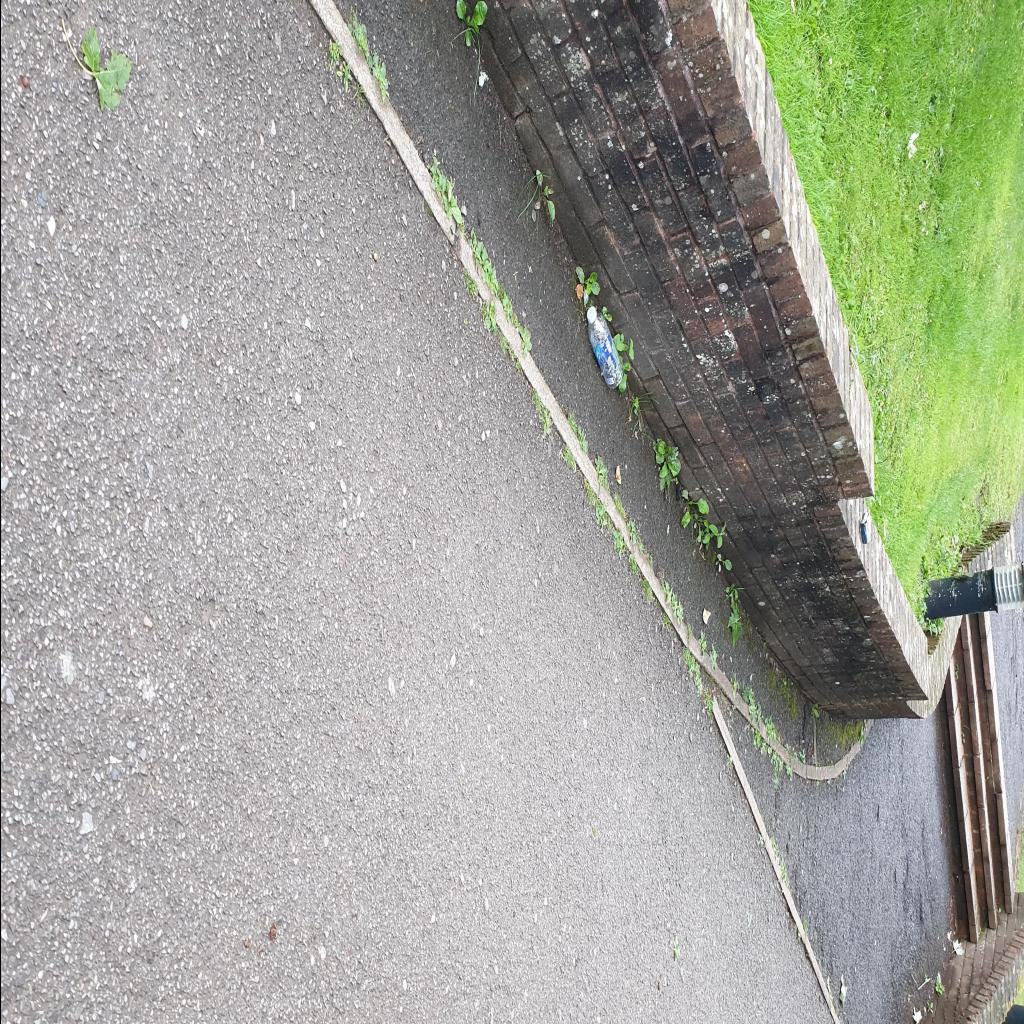Clear plastic bottle: (586, 306, 623, 390)
Other carton: (859, 512, 871, 544)
Plastic bottle cap: (586, 306, 594, 322)
